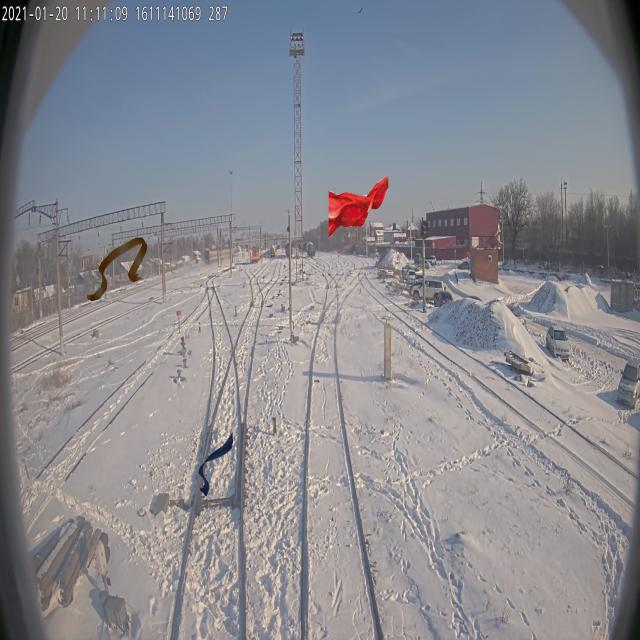floating object: (87, 237, 148, 301), (329, 175, 388, 239), (198, 432, 233, 496)
